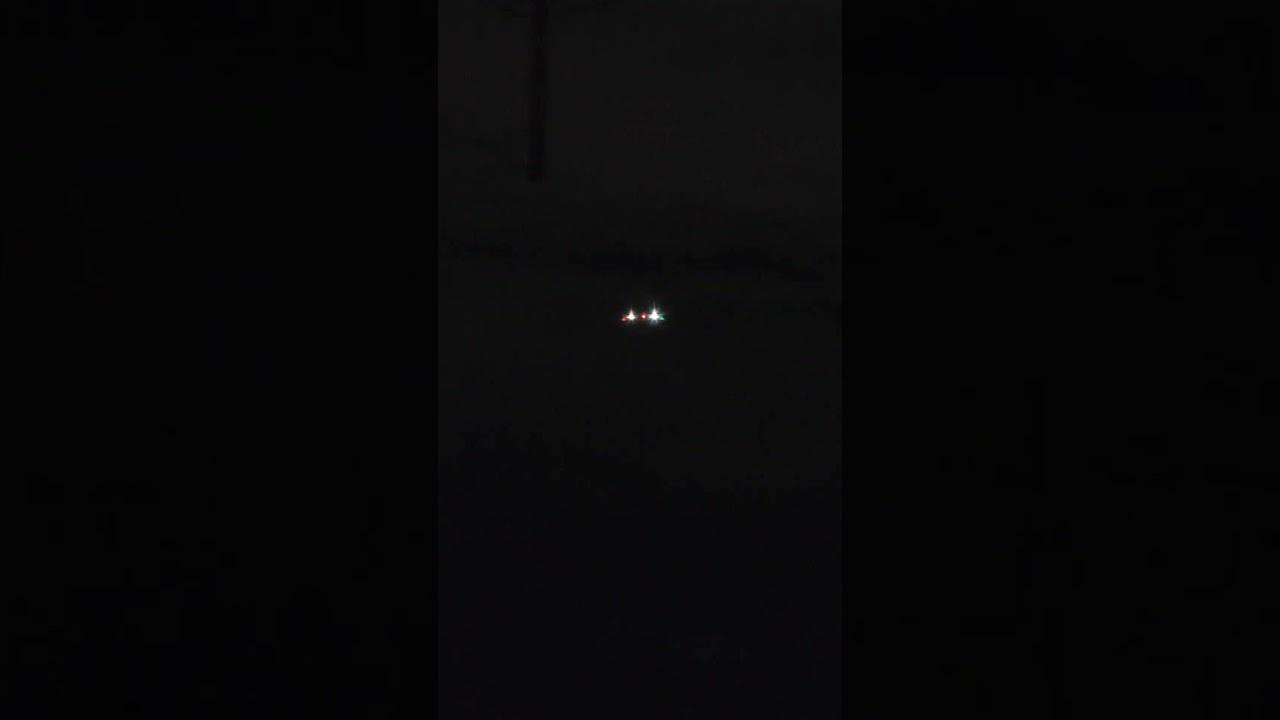Plane: (585, 289, 704, 345)
